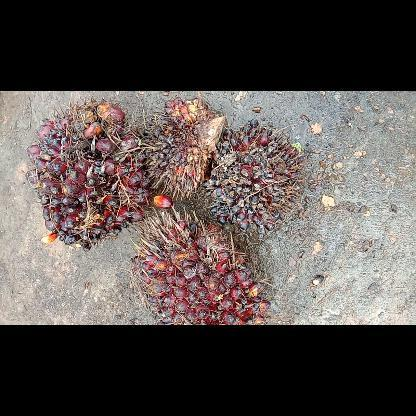Kurang masak: (26, 98, 150, 250)
TBS abnormal: (203, 120, 303, 228), (144, 98, 226, 198)
TBS masak: (131, 206, 270, 324)
